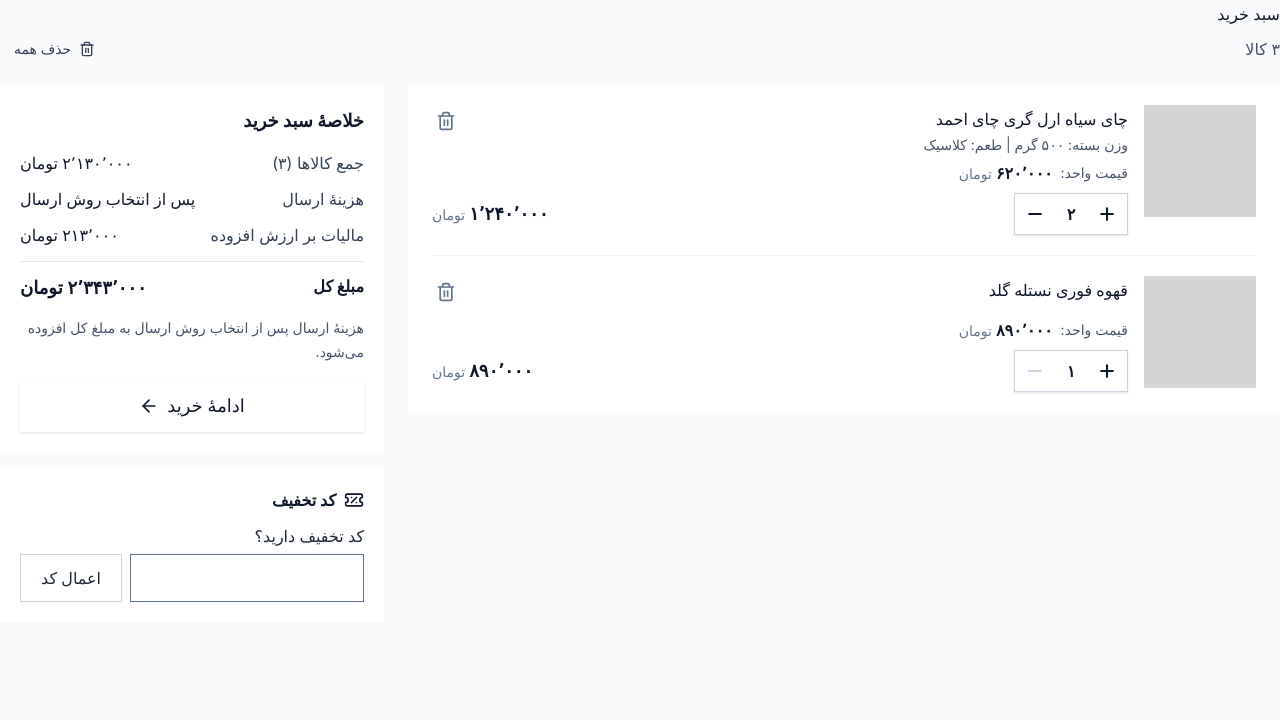
CartPage › clears the cart after asking: `cart/clear/`, then the empty state
Click the button "حذف همه": (55, 49) [0,29,109,69]
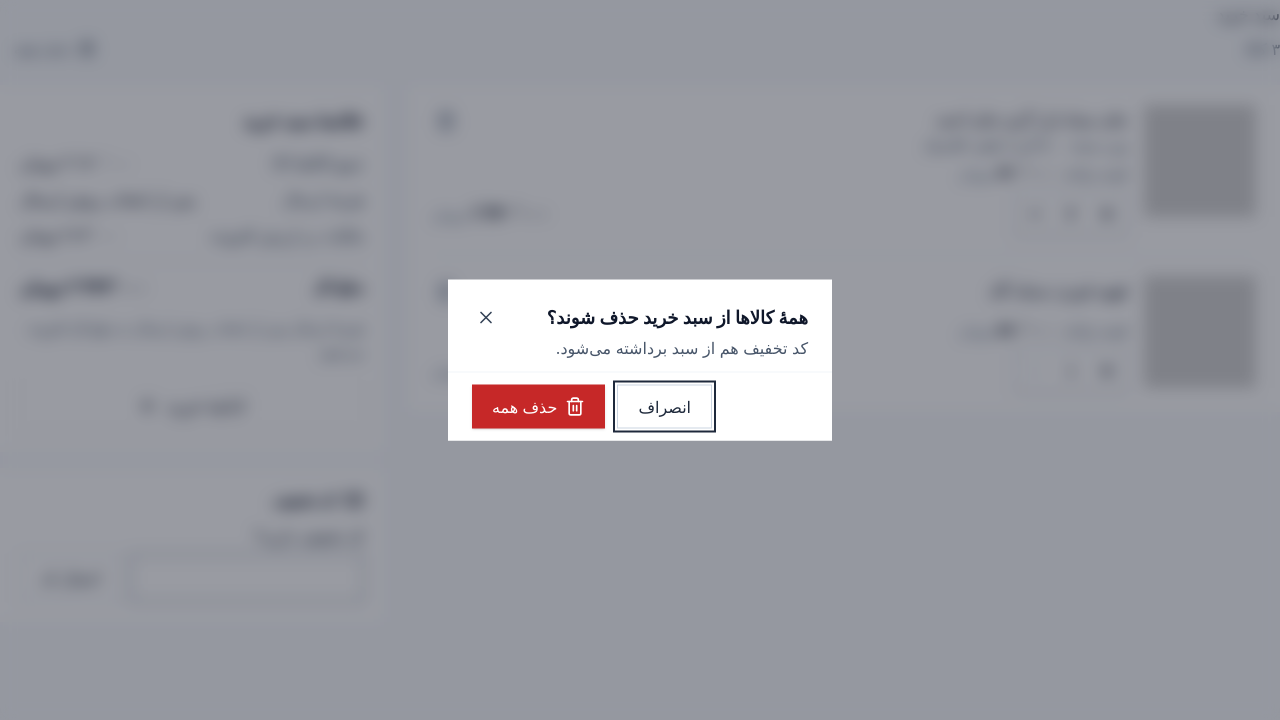
Click the button "حذف همه": (539, 406) [472,384,605,428]
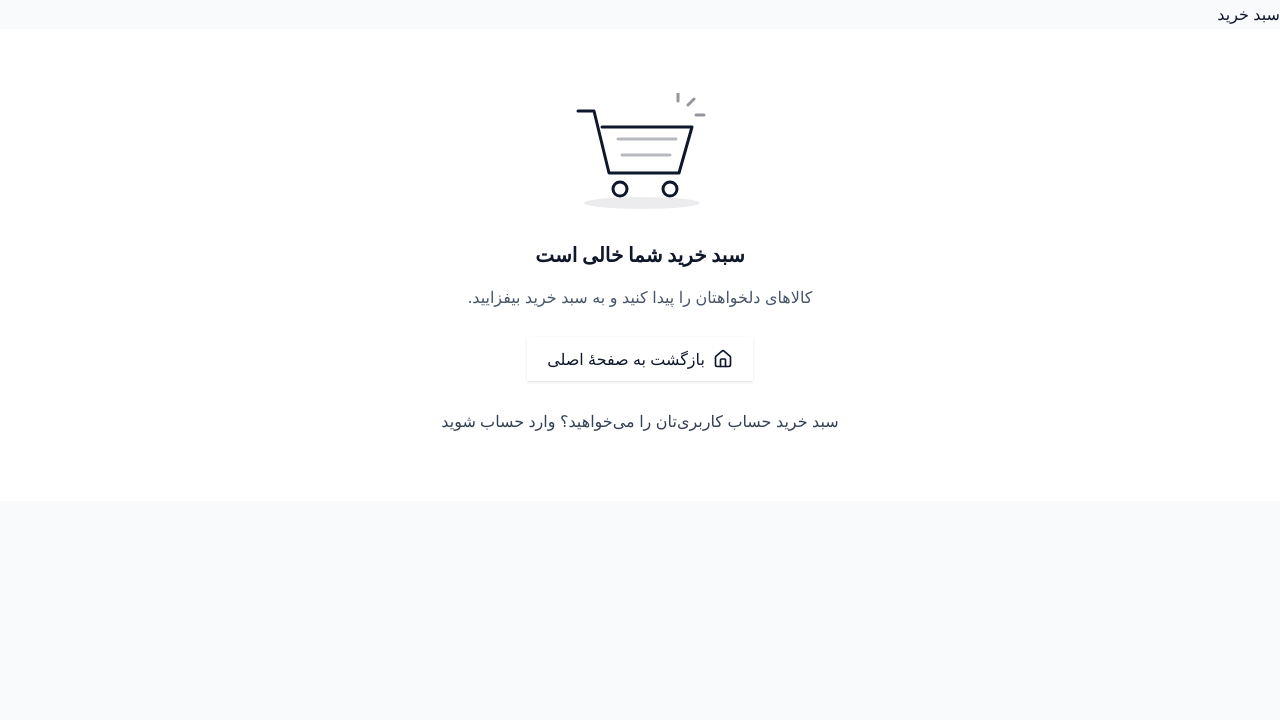
Expected: the heading "سبد خرید شما خالی است" is shown, [535,237,745,273]
